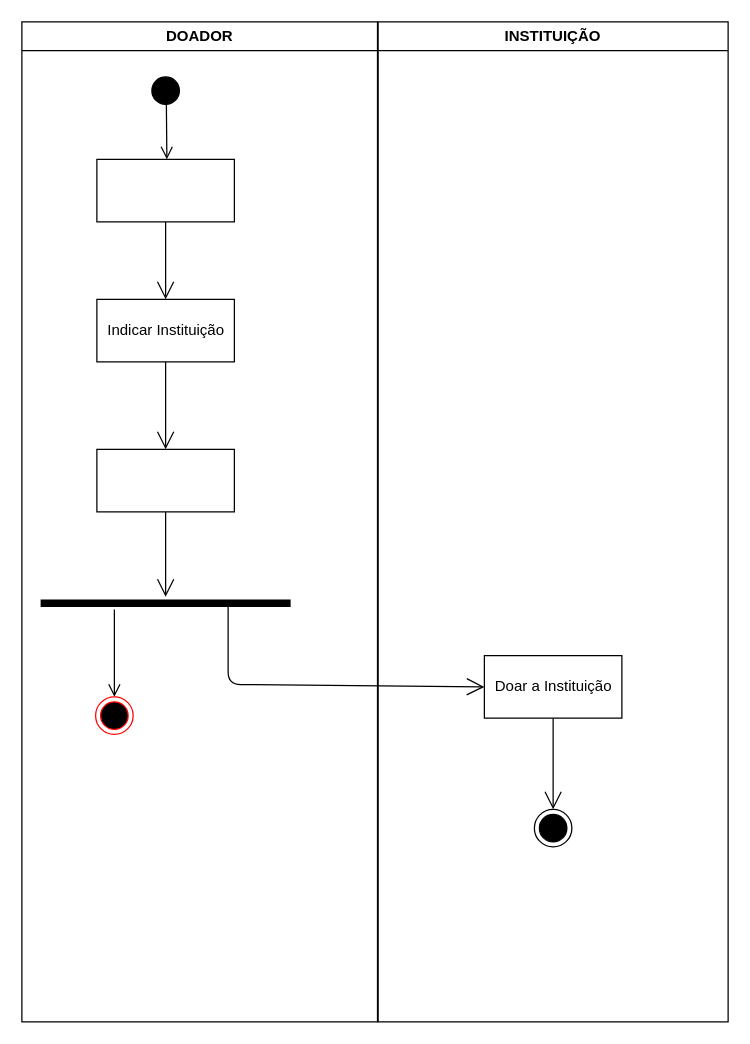
This 750x1044 diagram has some shape labels left out. Here are the shapes that lost their labels. From the top down, the centre of each, then its label:
(165,190): Entrar
(165,480): Fazer Login
